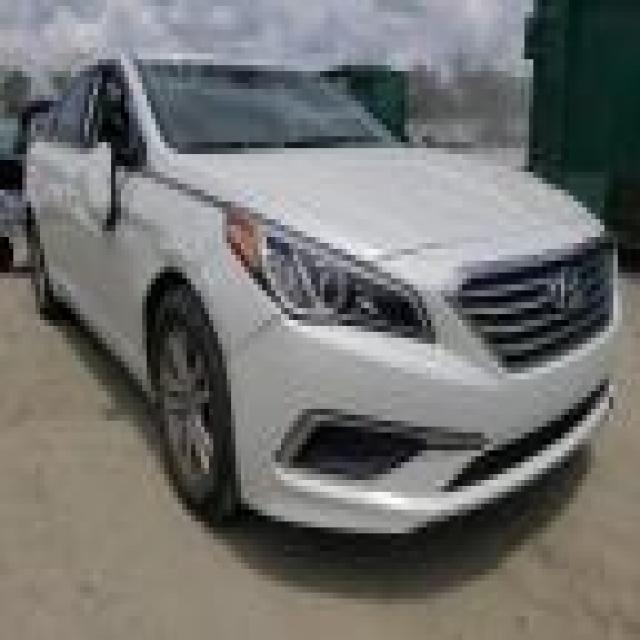minor: (72, 120, 144, 234)
